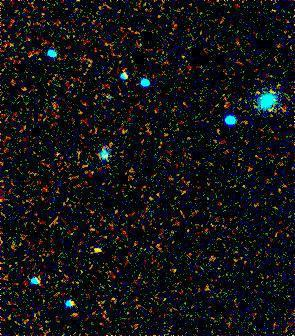star: (86, 234, 116, 264)
